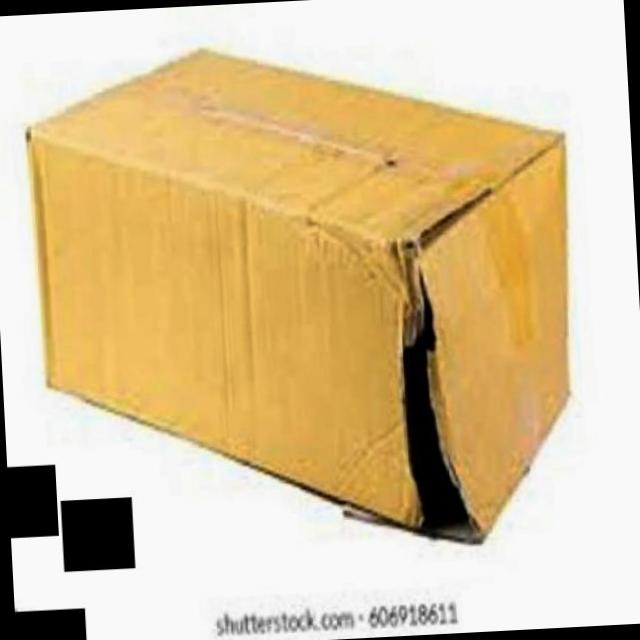box: (20, 27, 590, 569)
